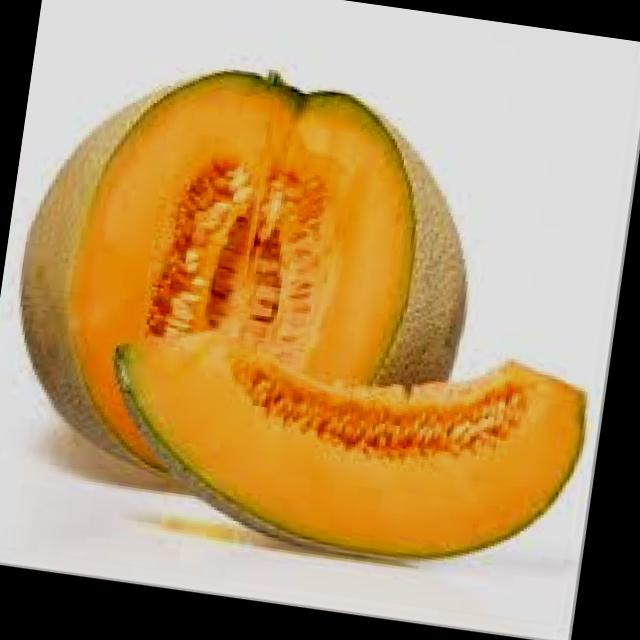cantaloupe: (0, 37, 496, 515), (94, 306, 596, 584)
